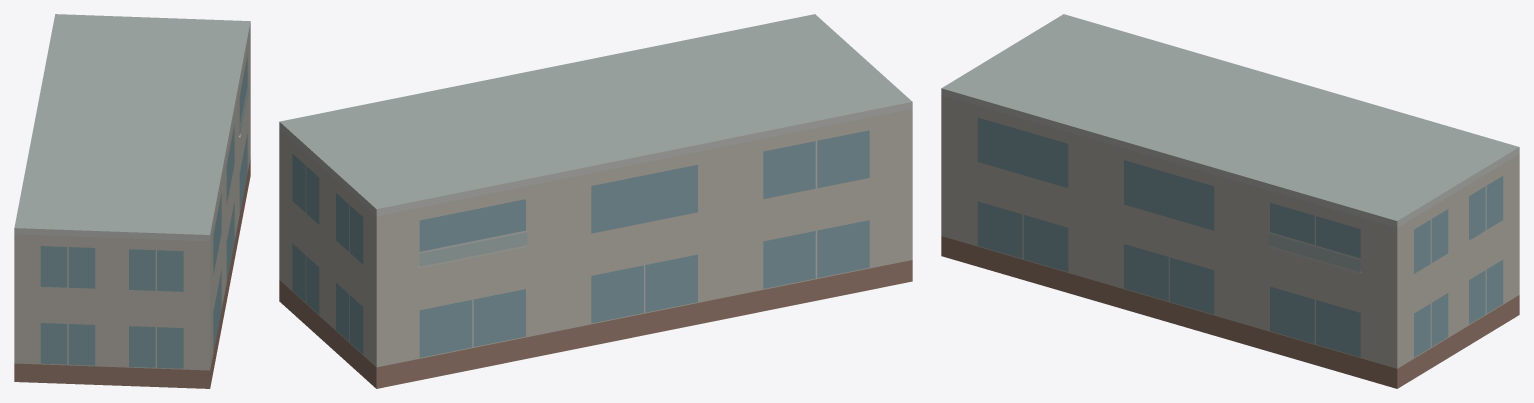
The model's file is survey-upis-32703965.glb.
The picture shows the model from 3 angles, left to right: view 1: azimuth 30°, elevation 25°; view 2: azimuth 150°, elevation 25°; view 3: azimuth 270°, elevation 25°; orthographic projection. The views are drawn at different scales.
Visible parts, largest first — view 1: survey-upis-32703965.tmp; view 2: survey-upis-32703965.tmp; view 3: survey-upis-32703965.tmp.
Part boxes in pixels (<box>): survey-upis-32703965.tmp: <box>14,14,250,388</box>; survey-upis-32703965.tmp: <box>279,14,912,388</box>; survey-upis-32703965.tmp: <box>941,14,1519,388</box>.
Size of the model in its own units: 16.16 by 6.1 by 19.06.
